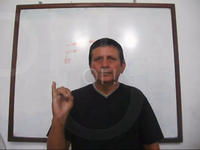oi: (50, 80, 76, 121)
